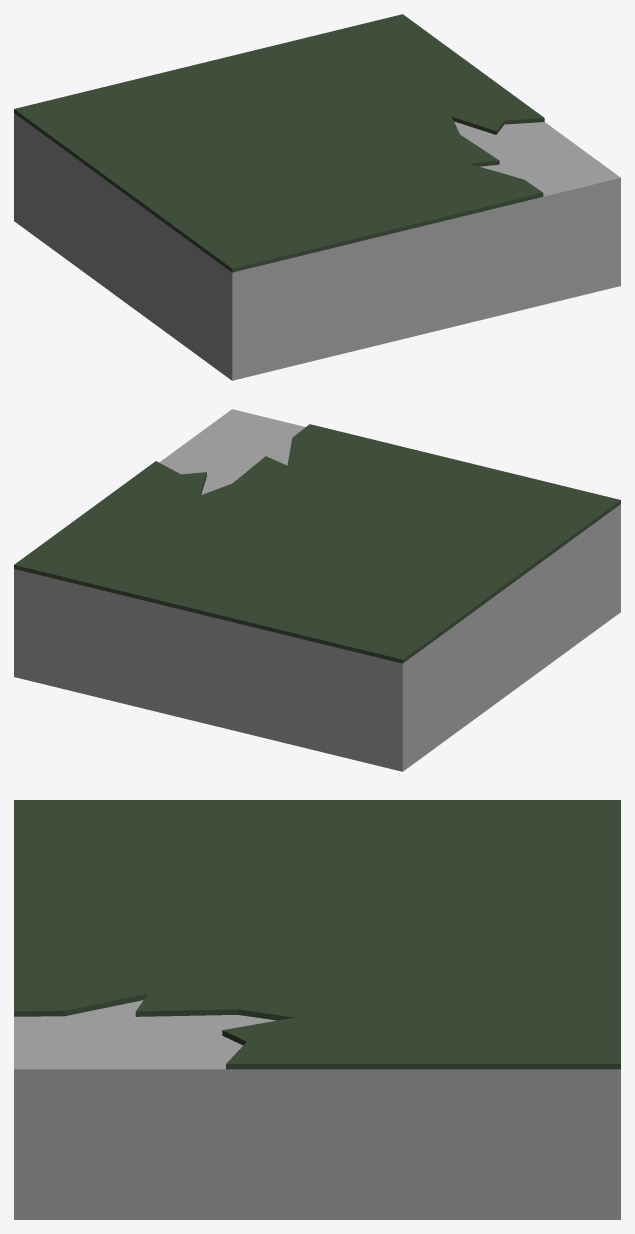
The model's file is aluminiyam layer.fbx.
3 views of the same model, one above another, from view 1: azimuth 30°, elevation 25°; view 2: azimuth 150°, elevation 25°; view 3: azimuth 270°, elevation 25° (orthographic). The views are drawn at different scales.
Visible parts, largest first — view 1: aluminiyam_layer1; view 2: aluminiyam_layer1; view 3: aluminiyam_layer1.
Part boxes in pixels (bbox=[...]): aluminiyam_layer1: bbox=[14, 14, 620, 380]; aluminiyam_layer1: bbox=[14, 409, 620, 771]; aluminiyam_layer1: bbox=[14, 800, 620, 1219].
Bounding box in the file's own units: 378 × 104 × 367.
